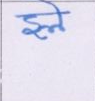o_matra: (52, 4, 66, 33)
